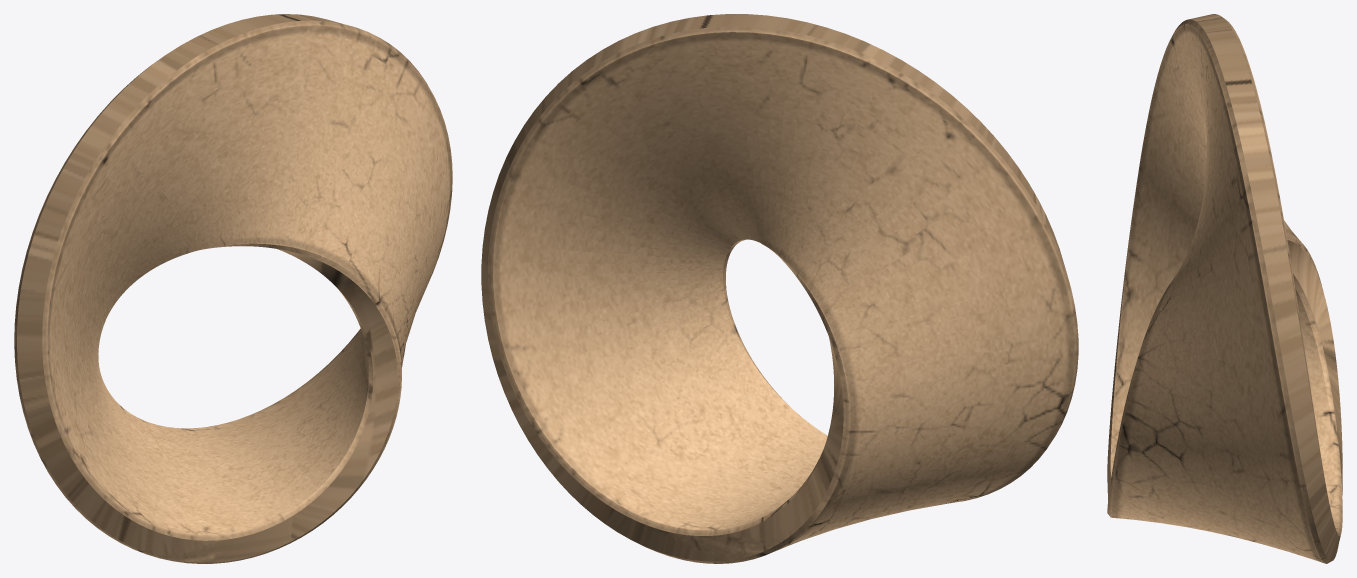
Rendered from stage4.fbx.
3 views of the same model, side by side, from view 1: azimuth 30°, elevation 25°; view 2: azimuth 150°, elevation 25°; view 3: azimuth 270°, elevation 25° (orthographic). The views are drawn at different scales.
Parts seen in each view (by area): view 1: pCube1; view 2: pCube1; view 3: pCube1.
Boxes of the visible parts, x1,y1,x2,y2 form: pCube1: (14, 14, 452, 563); pCube1: (481, 14, 1078, 563); pCube1: (1107, 14, 1342, 563).
Size of the model in its own units: 19.07 by 17.51 by 7.82.
1 material, 1 textured.
